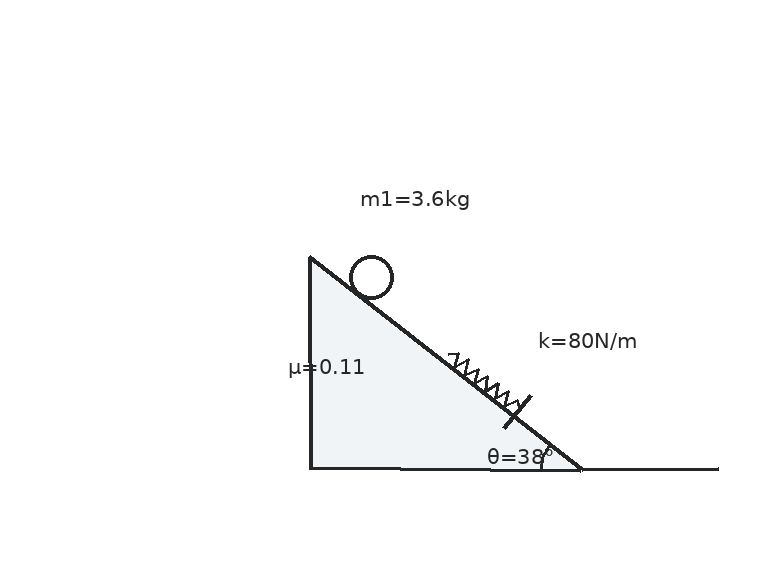ball: (347, 253, 395, 301)
ramp: (308, 255, 583, 471)
spring: (446, 350, 521, 411)
